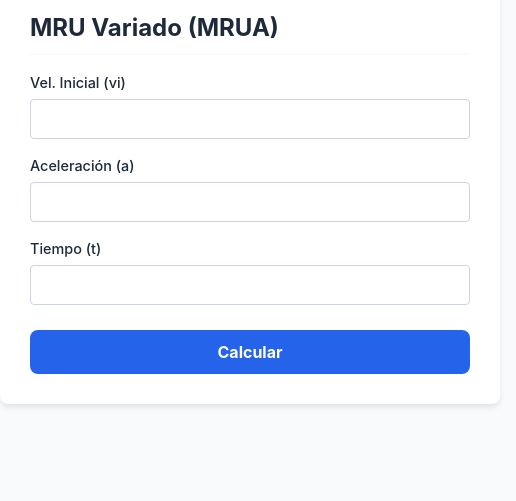
Test: MRUA Component › should show error when required values are missing
Click the button "Calcular": (250, 352) top-left (30, 330), bottom-right (470, 374)
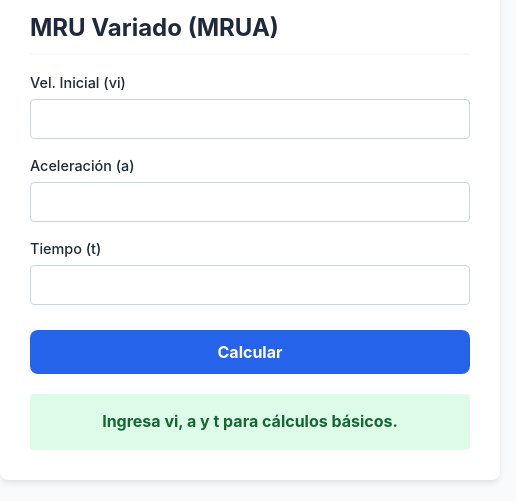
Result: the text "Ingresa vi, a y t para cálculos básicos." is shown at top-left (30, 394), bottom-right (470, 450)
